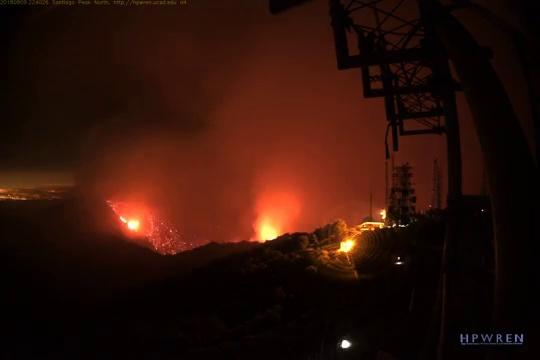fire: (253, 210, 278, 242), (112, 212, 145, 235)
smoke: (246, 88, 398, 206)
